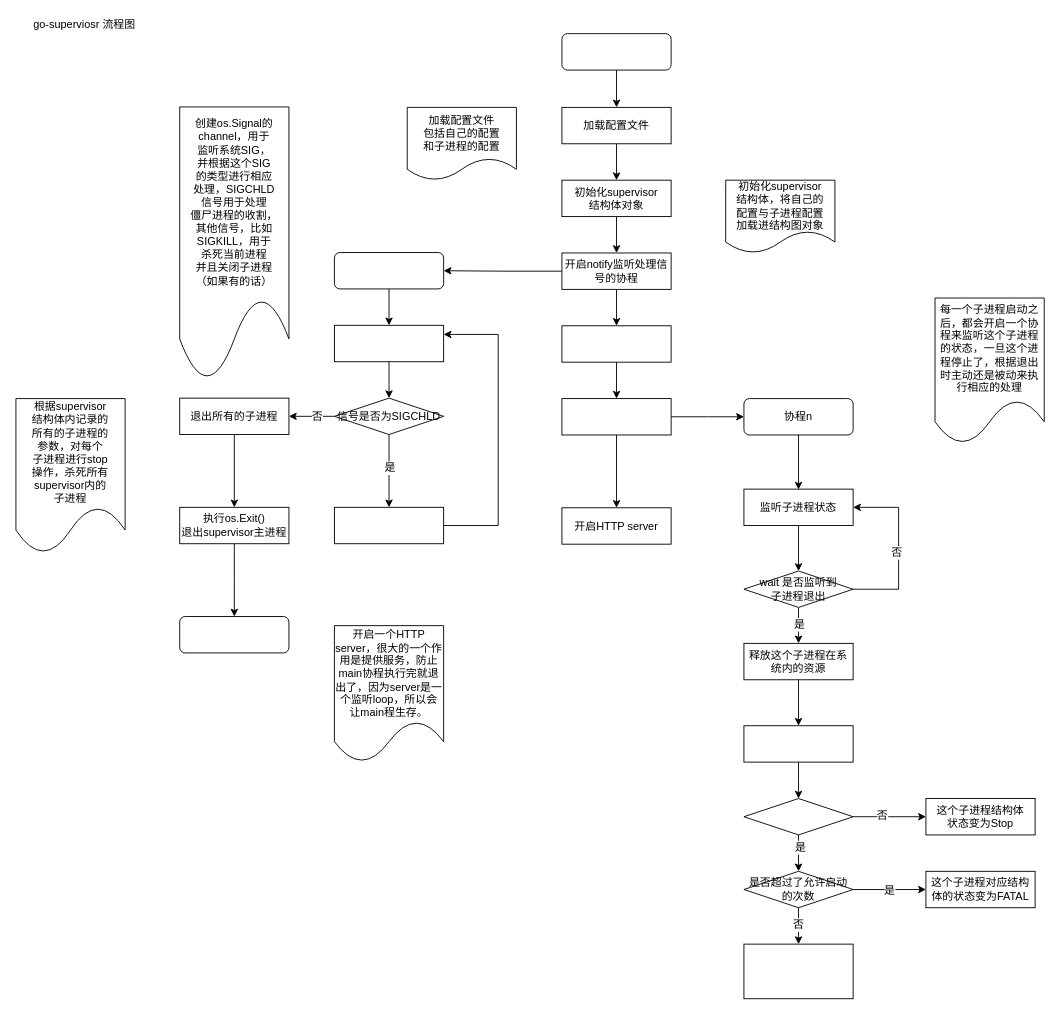
This 1060x1015 diagram has some shape labels left out. The shapes that lost their labels are listed below. From the top down, each one's centre as x and y in pixels, then its label:
At pixel 616 51: "supervisor 启动".
At pixel 389 270: "协程1".
At pixel 389 343: "接收针对这个进程的信号（是个loop）".
At pixel 616 343: "supervisor启动 各个子进程".
At pixel 616 416: "对每个子进程开启 监听子进程的协程 （使用的是 wait）".
At pixel 389 525: "执行僵尸进程收割处理函数".
At pixel 234 634: "结束".
At pixel 798 743: "处理这个子进程在supervisor内的结构体的数据".
At pixel 798 816: "是否主动重启".
At pixel 798 971: "调用子进程在supervisor内的结构体的 spawn 方法新建 子进程".
